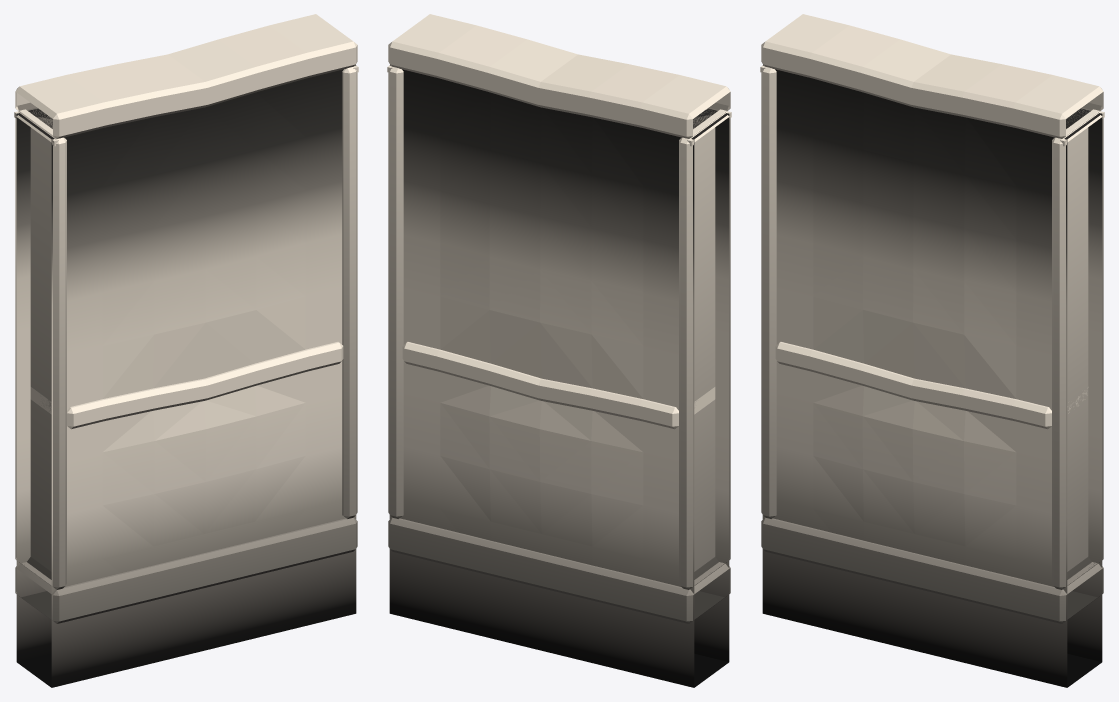
File: SM_VKI_Wall_Wattle_Plain_150A_Full.fbx
3 views of the same model, side by side, from view 1: azimuth 30°, elevation 25°; view 2: azimuth 150°, elevation 25°; view 3: azimuth 330°, elevation 25° (orthographic).
Parts seen in each view (by area): view 1: SM_VKI_Wall_Wattle_Plain_150A_Full.001; view 2: SM_VKI_Wall_Wattle_Plain_150A_Full.001; view 3: SM_VKI_Wall_Wattle_Plain_150A_Full.001.
Part boxes in pixels (x1,y1,x2,y2): SM_VKI_Wall_Wattle_Plain_150A_Full.001: [14, 14, 358, 687]; SM_VKI_Wall_Wattle_Plain_150A_Full.001: [387, 14, 731, 687]; SM_VKI_Wall_Wattle_Plain_150A_Full.001: [760, 14, 1104, 687].
Size of the model in its own units: 1.5 by 2.7 by 0.36.
